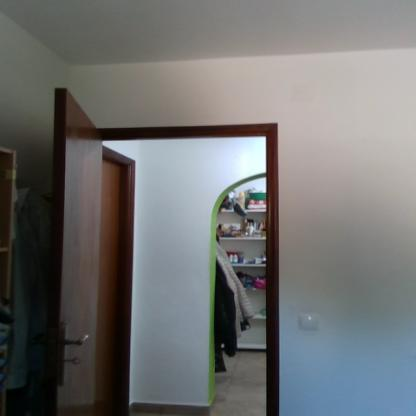open: (80, 98, 289, 412)
